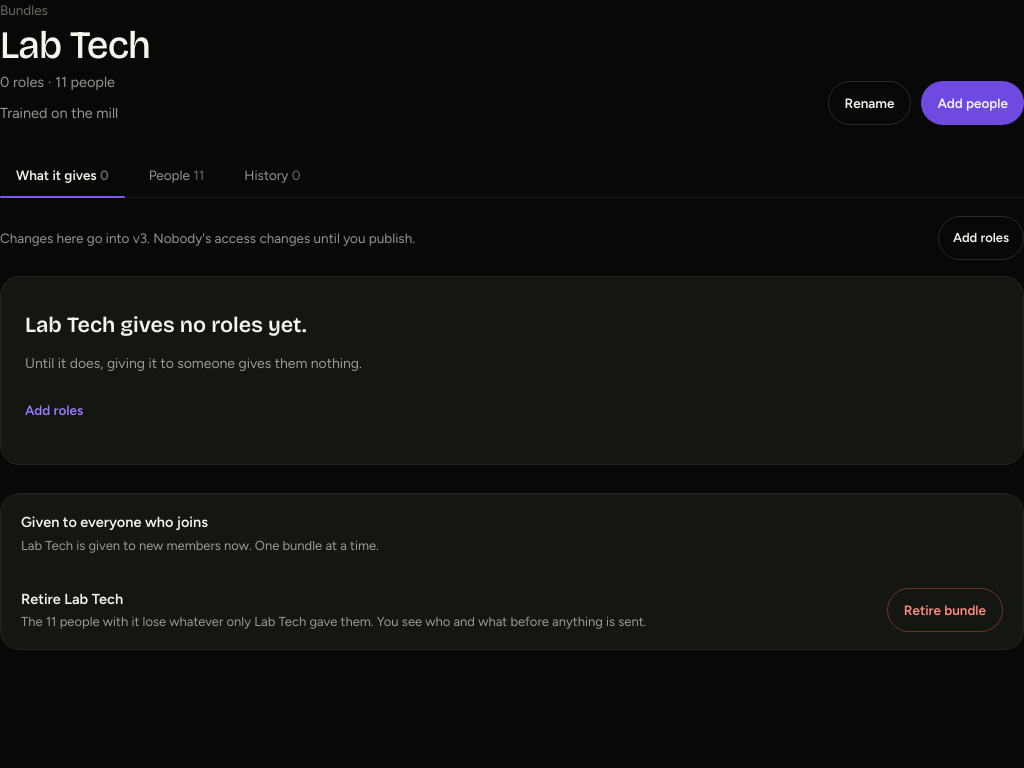
retiring a bundle › warns that onboarding stops when the welcome bundle is the one going
The image size is (1024, 768).
What coordinates should you click on to do the following:
click the button "Retire bundle"
I would click on:
 (945, 610)
Its box is 887,588 -> 1003,632.
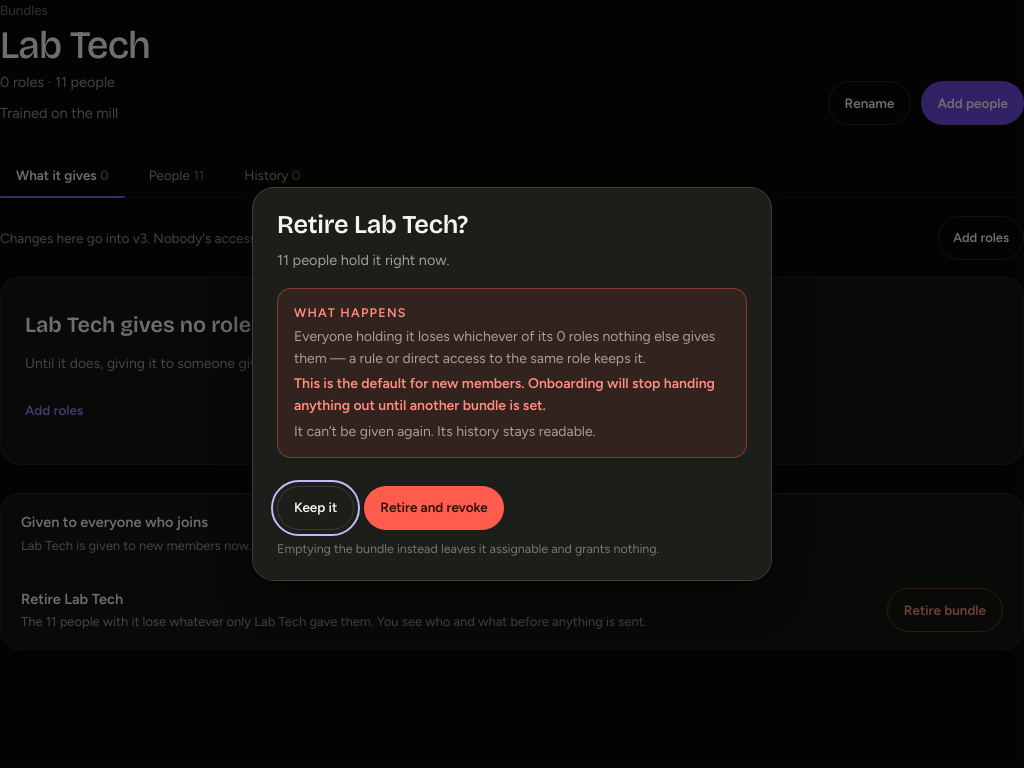
Now the text "default for new members" is shown, box 294,375 -> 715,414
Now the text "stop handing anything out" is shown, box 294,375 -> 715,414
